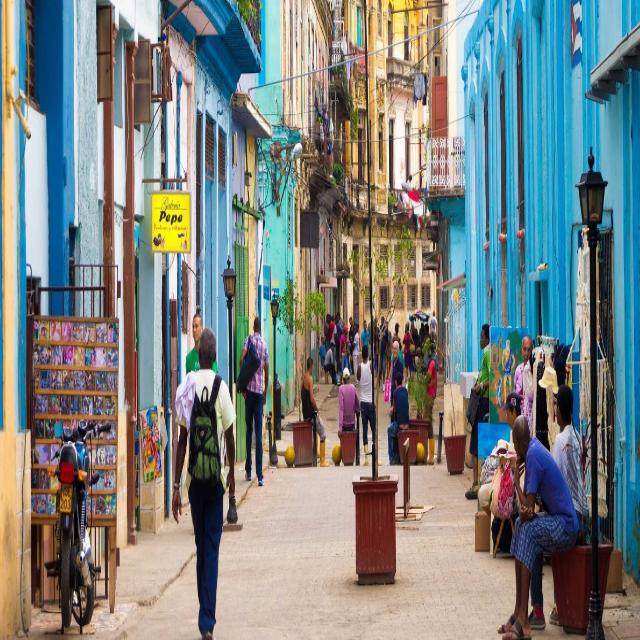body: (34, 319, 160, 522), (170, 323, 237, 639), (495, 410, 580, 639), (527, 385, 591, 630), (462, 321, 497, 501), (236, 313, 270, 486), (356, 343, 384, 467), (300, 354, 330, 468), (501, 391, 527, 504), (386, 369, 411, 466), (184, 311, 220, 378), (492, 333, 516, 410), (512, 334, 534, 416), (337, 366, 361, 439), (322, 309, 349, 372), (425, 342, 437, 467), (390, 339, 404, 425), (389, 340, 405, 410), (409, 306, 428, 364), (319, 332, 339, 385), (337, 322, 352, 386), (377, 313, 389, 393), (323, 341, 339, 385), (402, 321, 412, 384), (351, 322, 360, 387), (372, 317, 381, 379), (385, 320, 393, 380), (328, 313, 337, 366), (428, 308, 438, 355), (348, 316, 355, 376), (366, 315, 374, 362), (391, 322, 403, 352), (360, 320, 370, 348), (406, 173, 413, 187)
